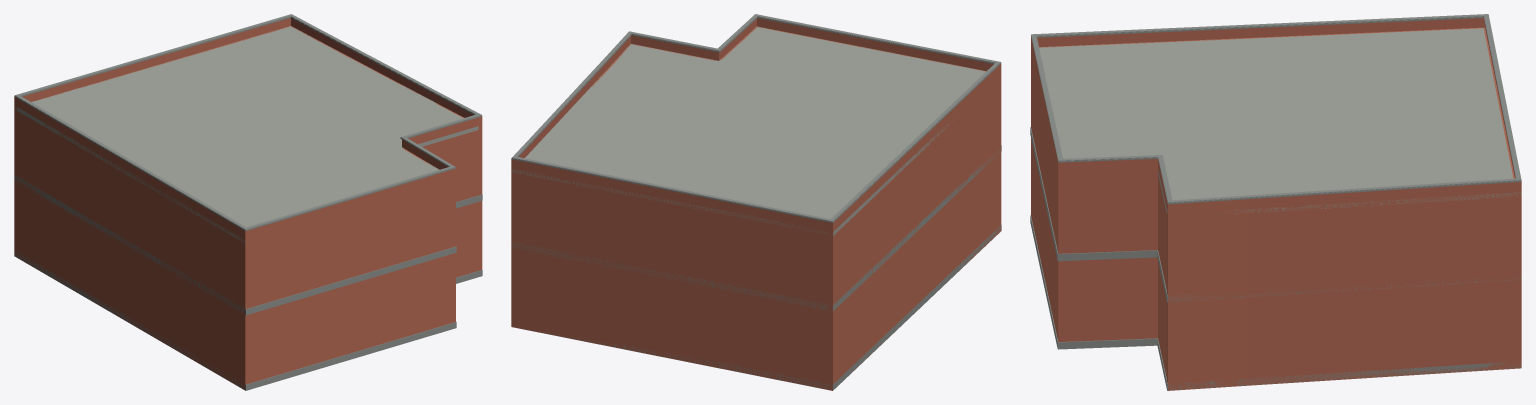
Rendered from building.glb.
3 views of the same model, side by side, from view 1: azimuth 30°, elevation 25°; view 2: azimuth 150°, elevation 25°; view 3: azimuth 270°, elevation 25° (orthographic). The views are drawn at different scales.
Parts seen in each view (by area): view 1: roof/base_1:0/roof_slab#0001, base_0:0/edge0/z0/base_0:0/edge0/z0/wall_0_0/clip1, base_1:0/edge0/z3.5/base_1:0/edge0/z3.5/wall_0_0/clip1, base_1:0/edge1/z3.5/base_1:0/edge1/z3.5/wall_0_0/clip0, base_0:0/edge1/z0/base_0:0/edge1/z0/wall_0_0/clip0, roof/base_1:0/parapet#0001, roof/base_1:0/parapet_cap#0002, base_1:0/edge3/z3.5/base_1:0/edge3/z3.5/wall_0_0/core0, roof/base_1:0/parapet_cap#0001, base_0:0/edge3/z0/base_0:0/edge3/z0/wall_0_0/core0, base_0:0/edge1/z0/plinth#0001, base_1:0/edge1/z3.5/plinth#0001 (+2 smaller); view 2: roof/base_1:0/roof_slab#0001, base_0:0/edge7/z0/base_0:0/edge7/z0/wall_0_0, base_1:0/edge7/z3.5/base_1:0/edge7/z3.5/wall_0_0, base_1:0/edge0/z3.5/base_1:0/edge0/z3.5/wall_0_0/clip1, base_0:0/edge0/z0/base_0:0/edge0/z0/wall_0_0/clip1, roof/base_1:0/parapet#0001, roof/base_1:0/parapet_cap#0002, roof/base_1:0/parapet_cap#0001, base_0:0/edge0/z0/plinth#0001, base_1:0/edge7/z3.5/plinth#0001, base_1:0/edge0/z3.5/plinth#0001, base_0:0/edge7/z0/plinth#0001; view 3: roof/base_1:0/roof_slab#0001, base_1:0/edge5/z3.5/base_1:0/edge5/z3.5/wall_0_0, base_0:0/edge5/z0/base_0:0/edge5/z0/wall_0_0, roof/base_1:0/parapet#0001, base_1:0/edge2/z3.5/base_1:0/edge2/z3.5/wall_0_0, base_0:0/edge2/z0/base_0:0/edge2/z0/wall_0_0, base_1:0/edge4/z3.5/base_1:0/edge4/z3.5/wall_0_0, base_0:0/edge4/z0/base_0:0/edge4/z0/wall_0_0, roof/base_1:0/parapet_cap#0002, base_1:0/edge6/z3.5/base_1:0/edge6/z3.5/wall_0_0, base_0:0/edge6/z0/base_0:0/edge6/z0/wall_0_0, base_1:0/edge1/z3.5/base_1:0/edge1/z3.5/wall_0_0/clip0 (+10 smaller).
Part boxes in pixels (x1,y1,x2,y2): roof/base_1:0/roof_slab#0001: [14, 26, 478, 242]; base_0:0/edge0/z0/base_0:0/edge0/z0/wall_0_0/clip1: [14, 181, 245, 389]; base_1:0/edge0/z3.5/base_1:0/edge0/z3.5/wall_0_0/clip1: [14, 111, 245, 314]; base_1:0/edge1/z3.5/base_1:0/edge1/z3.5/wall_0_0/clip0: [245, 177, 455, 309]; base_0:0/edge1/z0/base_0:0/edge1/z0/wall_0_0/clip0: [245, 253, 455, 384]; roof/base_1:0/parapet#0001: [14, 18, 482, 239]; roof/base_1:0/parapet_cap#0002: [15, 14, 481, 229]; base_1:0/edge3/z3.5/base_1:0/edge3/z3.5/wall_0_0/core0: [422, 130, 478, 201]; roof/base_1:0/parapet_cap#0001: [14, 16, 482, 231]; base_0:0/edge3/z0/base_0:0/edge3/z0/wall_0_0/core0: [456, 202, 478, 277]; base_0:0/edge1/z0/plinth#0001: [245, 322, 456, 390]; base_1:0/edge1/z3.5/plinth#0001: [245, 246, 456, 315]; roof/base_1:0/roof_slab#0001: [511, 26, 985, 235]; base_0:0/edge7/z0/base_0:0/edge7/z0/wall_0_0: [511, 247, 828, 389]; base_1:0/edge7/z3.5/base_1:0/edge7/z3.5/wall_0_0: [511, 168, 828, 310]; base_1:0/edge0/z3.5/base_1:0/edge0/z3.5/wall_0_0/clip1: [833, 73, 1001, 306]; base_0:0/edge0/z0/base_0:0/edge0/z0/wall_0_0/clip1: [833, 152, 1001, 384]; roof/base_1:0/parapet#0001: [511, 18, 1001, 232]; roof/base_1:0/parapet_cap#0002: [512, 14, 1000, 221]; roof/base_1:0/parapet_cap#0001: [511, 16, 1001, 222]; base_0:0/edge0/z0/plinth#0001: [832, 225, 1000, 390]; base_1:0/edge7/z3.5/plinth#0001: [511, 241, 828, 310]; base_1:0/edge0/z3.5/plinth#0001: [832, 149, 1000, 310]; base_0:0/edge7/z0/plinth#0001: [512, 326, 828, 389]; roof/base_1:0/roof_slab#0001: [1039, 28, 1521, 214]; base_1:0/edge5/z3.5/base_1:0/edge5/z3.5/wall_0_0: [1249, 194, 1479, 297]; base_0:0/edge5/z0/base_0:0/edge5/z0/wall_0_0: [1249, 282, 1479, 385]; roof/base_1:0/parapet#0001: [1031, 18, 1521, 214]; base_1:0/edge2/z3.5/base_1:0/edge2/z3.5/wall_0_0: [1058, 169, 1157, 253]; base_0:0/edge2/z0/base_0:0/edge2/z0/wall_0_0: [1058, 257, 1157, 341]; base_1:0/edge4/z3.5/base_1:0/edge4/z3.5/wall_0_0: [1167, 209, 1248, 302]; base_0:0/edge4/z0/base_0:0/edge4/z0/wall_0_0: [1167, 297, 1248, 390]; roof/base_1:0/parapet_cap#0002: [1031, 14, 1521, 202]; base_1:0/edge6/z3.5/base_1:0/edge6/z3.5/wall_0_0: [1480, 192, 1521, 282]; base_0:0/edge6/z0/base_0:0/edge6/z0/wall_0_0: [1480, 280, 1521, 370]; base_1:0/edge1/z3.5/base_1:0/edge1/z3.5/wall_0_0/clip0: [1031, 47, 1063, 253].
Size of the model in its own units: 16.08 by 7.47 by 17.67.
